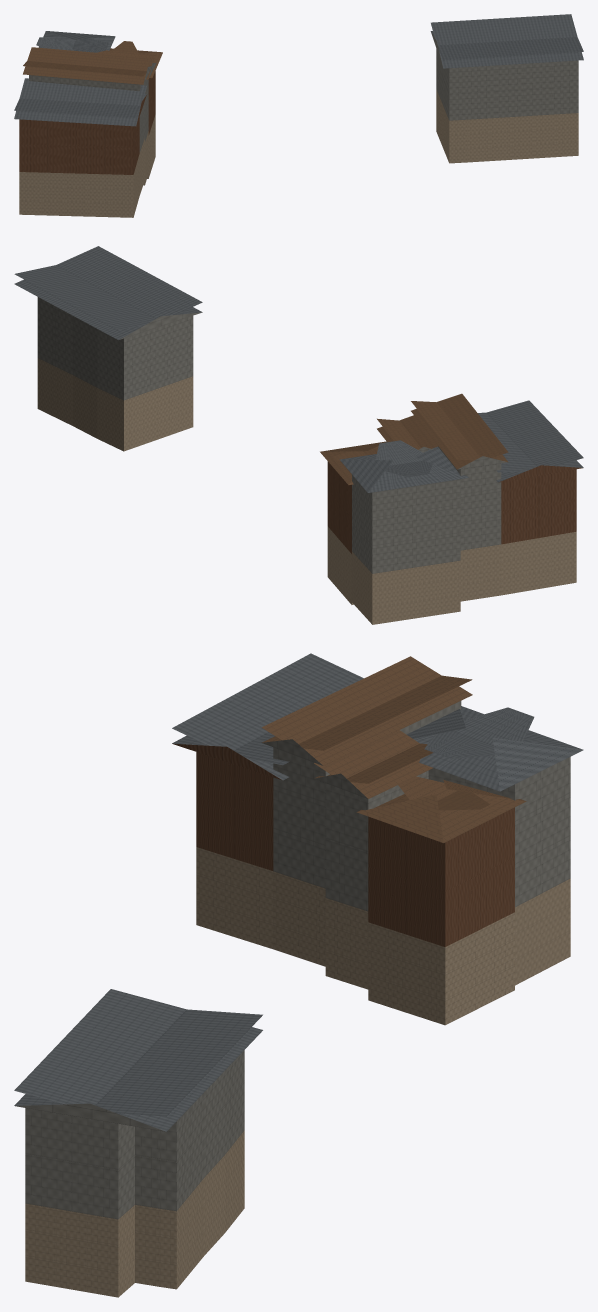
The model's file is bld_c43_31_273.gltf.
The picture shows the model from 3 angles, top to bottom: view 1: azimuth 30°, elevation 25°; view 2: azimuth 150°, elevation 25°; view 3: azimuth 270°, elevation 25°; orthographic projection. The views are drawn at different scales.
Visible parts, largest first — view 1: bld_c43_31_273; view 2: bld_c43_31_273; view 3: bld_c43_31_273.
Boxes of the visible parts, <box> form: bld_c43_31_273: <box>14,14,583,217</box>; bld_c43_31_273: <box>14,246,583,624</box>; bld_c43_31_273: <box>14,653,583,1297</box>.
Bounding box in the file's own units: 64.62 × 15.8 × 33.71.
Materials: 7 (7 with a texture image).
